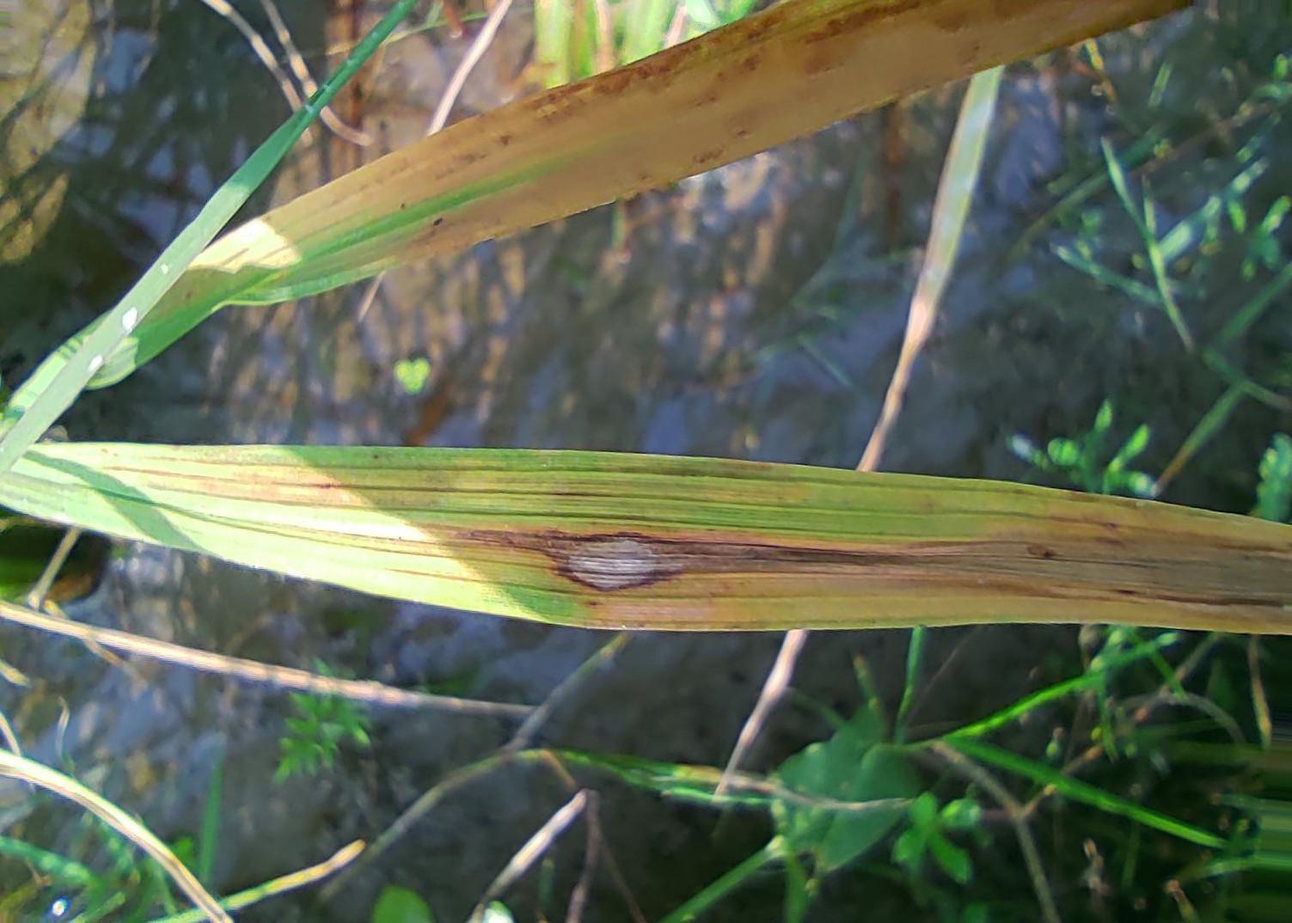LEAF: (0, 443, 1291, 634)
LEAF BLAST: (453, 530, 963, 593)
